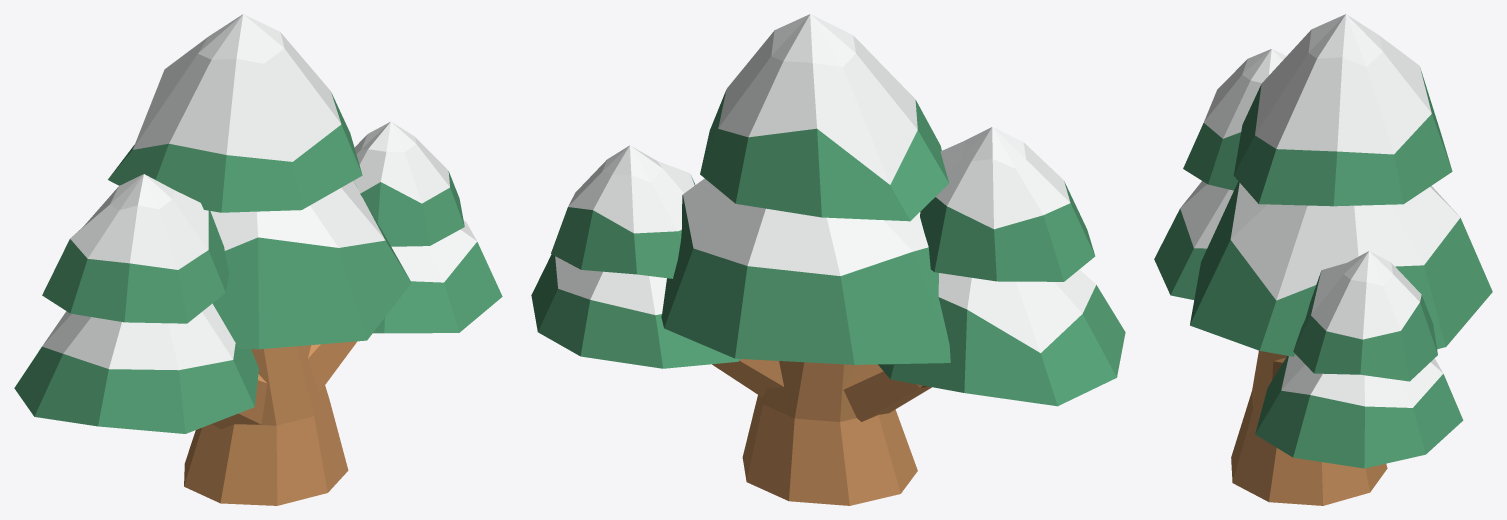
File: SnowCedar.glb
The picture shows the model from 3 angles, left to right: view 1: azimuth 30°, elevation 25°; view 2: azimuth 150°, elevation 25°; view 3: azimuth 270°, elevation 25°; orthographic projection. The views are drawn at different scales.
Visible parts, largest first — view 1: SnowCedar; view 2: SnowCedar; view 3: SnowCedar.
Boxes of the visible parts, box(x1,y1,x2,y2) form: SnowCedar: box(14, 14, 502, 505); SnowCedar: box(531, 14, 1125, 505); SnowCedar: box(1154, 14, 1492, 505).
Size of the model in its own units: 4.31 by 3.64 by 2.46.
Materials: 1 (1 with a texture image).
